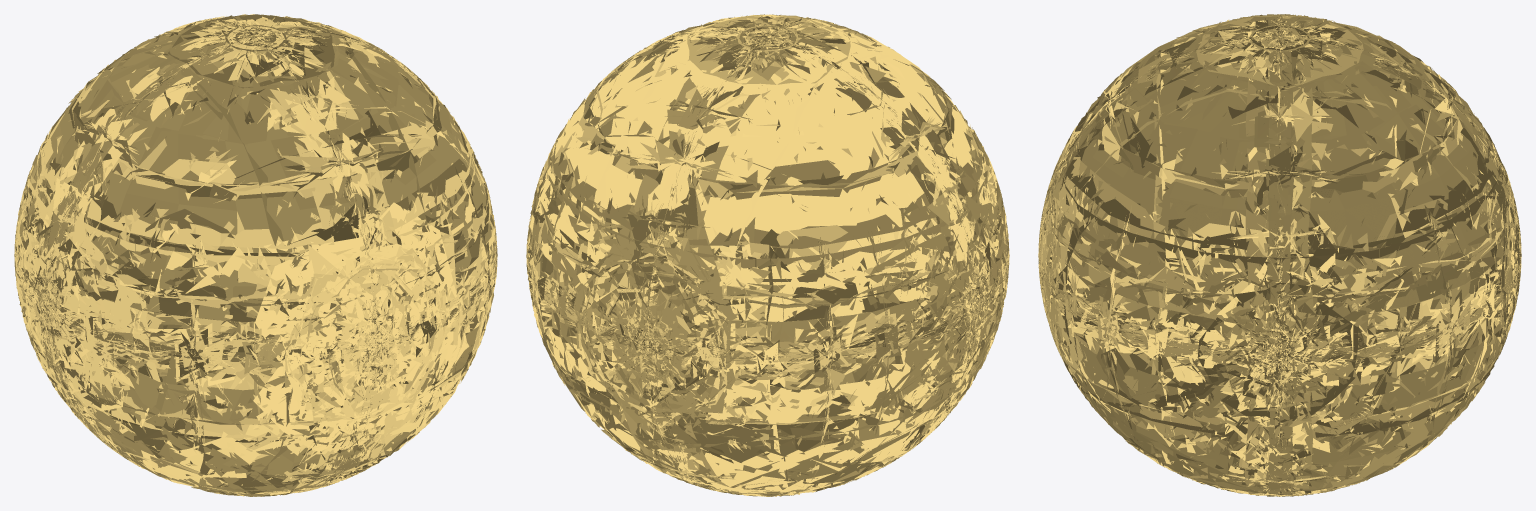
The model's file is sys-cd-electrical.glb.
3 renders of one model, left to right at view 1: azimuth 30°, elevation 25°; view 2: azimuth 150°, elevation 25°; view 3: azimuth 270°, elevation 25°, orthographic.
Visible parts, largest first — view 1: TS-cd-electrical-1680, TS-cd-electrical-1682, TS-cd-electrical-1672, TS-cd-electrical-1674, TS-cd-electrical-1684, TS-cd-electrical-1678, TS-cd-electrical-1675, TS-cd-electrical-1679; view 2: TS-cd-electrical-1680, TS-cd-electrical-1672, TS-cd-electrical-1682, TS-cd-electrical-1684, TS-cd-electrical-1674, TS-cd-electrical-1678, TS-cd-electrical-1675, TS-cd-electrical-1679; view 3: TS-cd-electrical-1680, TS-cd-electrical-1672, TS-cd-electrical-1674, TS-cd-electrical-1682, TS-cd-electrical-1684, TS-cd-electrical-1678, TS-cd-electrical-1675, TS-cd-electrical-1679, TS-cd-electrical-1673.
Boxes of the visible parts, x1,y1,x2,y2 form: TS-cd-electrical-1680: [14, 14, 497, 496]; TS-cd-electrical-1682: [14, 17, 497, 494]; TS-cd-electrical-1672: [14, 15, 497, 495]; TS-cd-electrical-1674: [15, 14, 497, 495]; TS-cd-electrical-1684: [15, 15, 492, 496]; TS-cd-electrical-1678: [20, 20, 495, 479]; TS-cd-electrical-1675: [14, 15, 497, 496]; TS-cd-electrical-1679: [15, 22, 491, 493]; TS-cd-electrical-1680: [526, 14, 1008, 495]; TS-cd-electrical-1672: [526, 14, 1009, 494]; TS-cd-electrical-1682: [527, 14, 1009, 495]; TS-cd-electrical-1684: [527, 17, 1008, 496]; TS-cd-electrical-1674: [526, 14, 1009, 496]; TS-cd-electrical-1678: [528, 17, 1001, 486]; TS-cd-electrical-1675: [526, 16, 1009, 496]; TS-cd-electrical-1679: [528, 18, 1009, 496]; TS-cd-electrical-1680: [1039, 14, 1520, 496]; TS-cd-electrical-1672: [1038, 14, 1521, 495]; TS-cd-electrical-1674: [1038, 14, 1521, 496]; TS-cd-electrical-1682: [1038, 14, 1520, 496]; TS-cd-electrical-1684: [1043, 19, 1517, 496]; TS-cd-electrical-1678: [1041, 21, 1519, 493]; TS-cd-electrical-1675: [1039, 17, 1521, 496]; TS-cd-electrical-1679: [1038, 15, 1521, 495]; TS-cd-electrical-1673: [1040, 25, 1516, 370].
Bounding box in the file's own units: 2 × 2 × 2.
